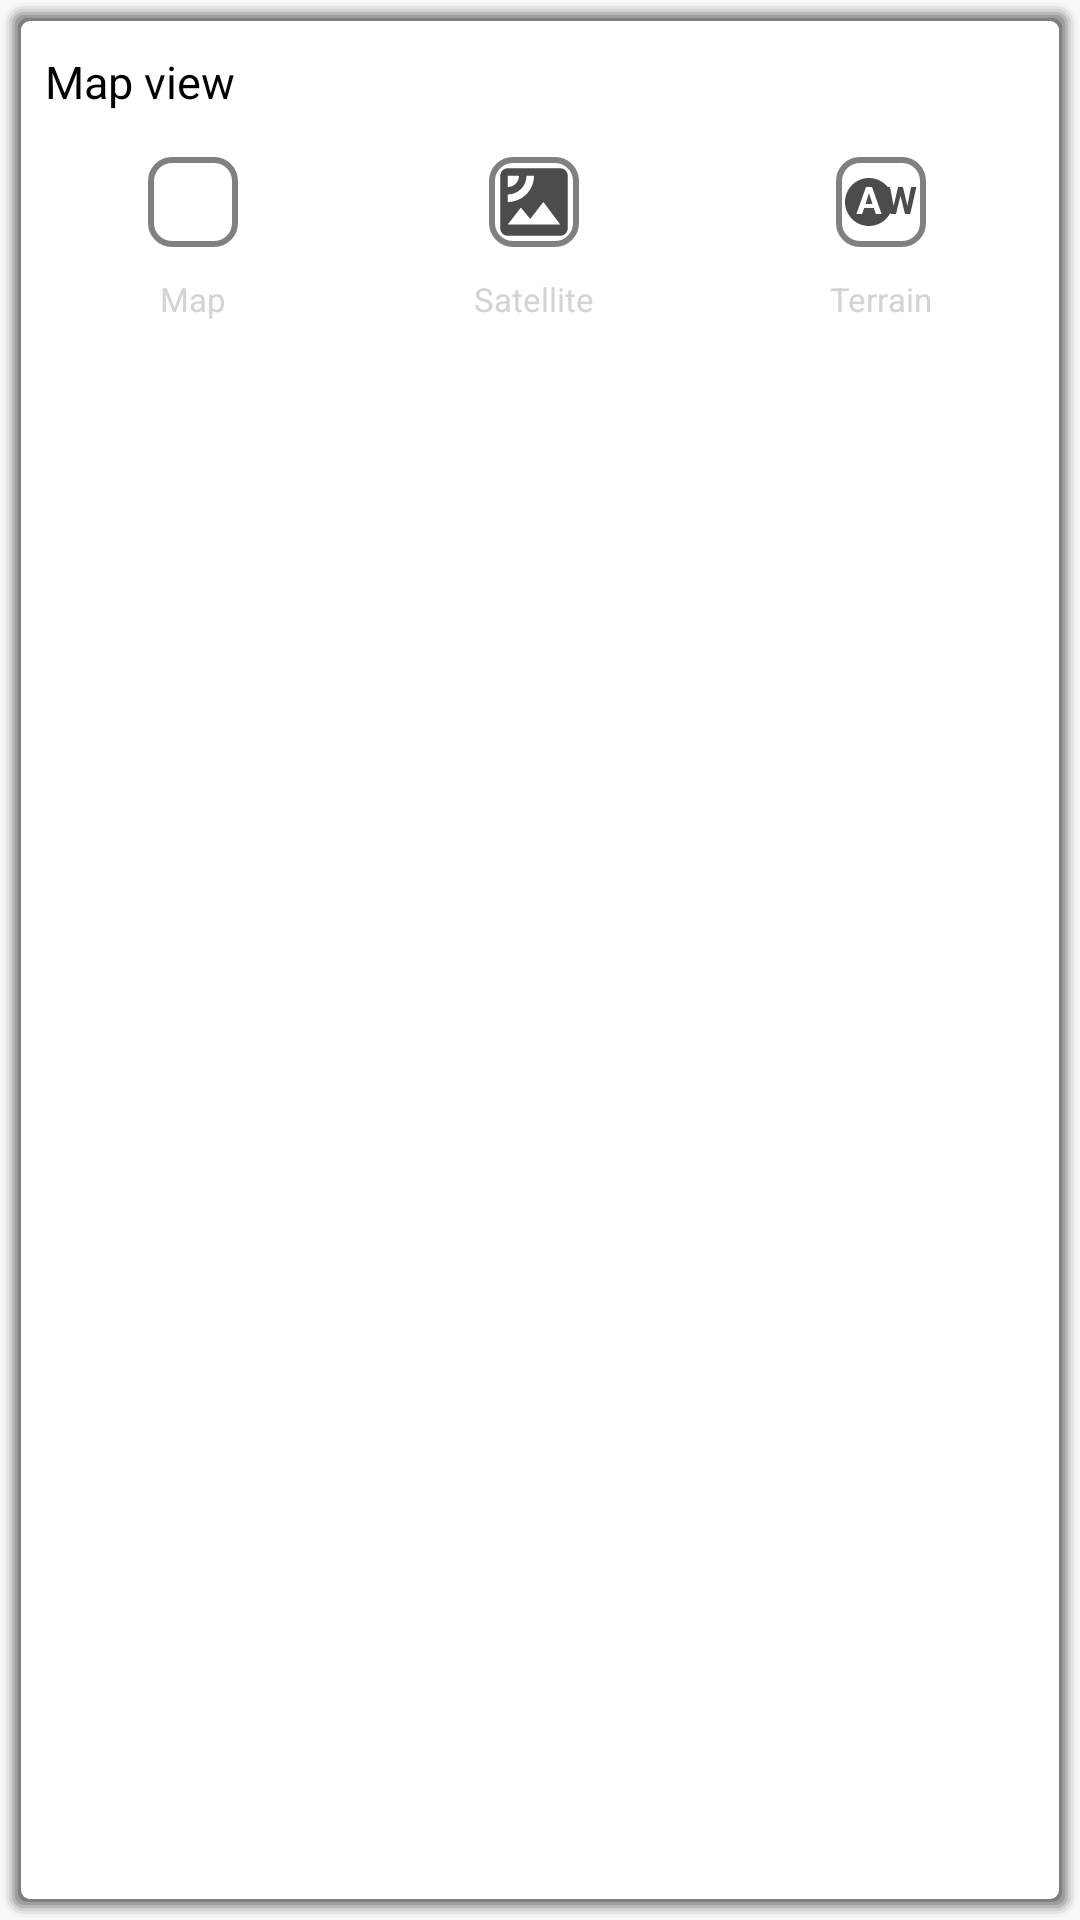

Screen size 1080px x 1920px. Icon name, then its center in pixels as (x=x, y=y):
auto: (x=881, y=202)
